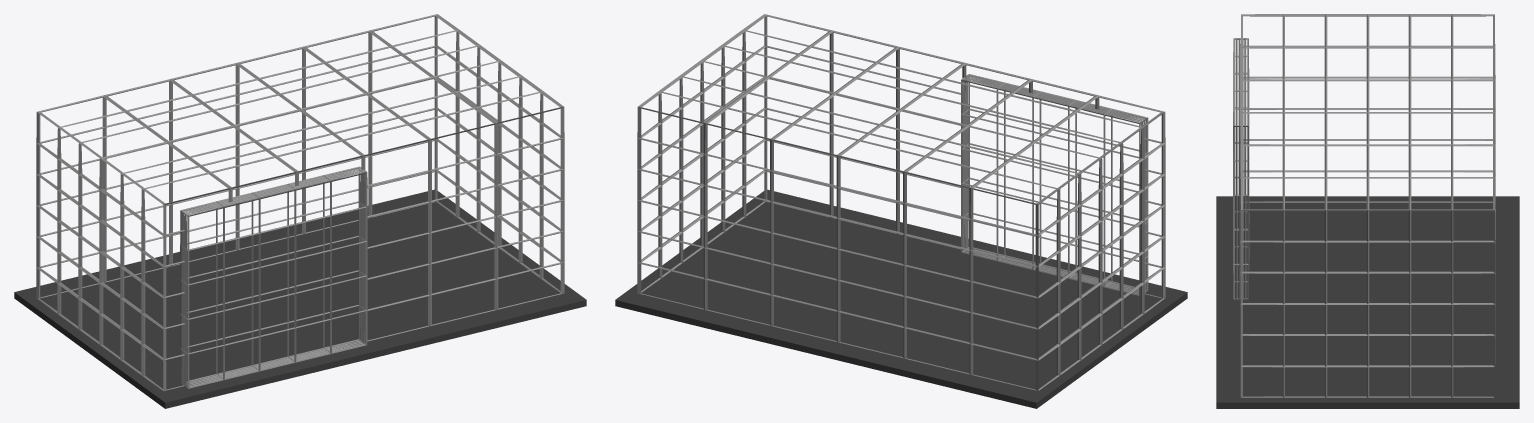
The model's file is DogCageV2.fbx.
3 renders of one model, left to right at view 1: azimuth 30°, elevation 25°; view 2: azimuth 150°, elevation 25°; view 3: azimuth 270°, elevation 25°, orthographic.
Visible parts, largest first — view 1: Plane, Cube, Cube.001; view 2: Plane, Cube, Cube.001; view 3: Plane, Cube, Cube.001.
Boxes of the visible parts, left/top/right/bottom form: Plane: left=14, top=189, right=586, bottom=408; Cube: left=36, top=14, right=564, bottom=391; Cube.001: left=180, top=166, right=367, bottom=388; Plane: left=615, top=189, right=1187, bottom=408; Cube: left=637, top=14, right=1165, bottom=391; Cube.001: left=961, top=74, right=1148, bottom=295; Plane: left=1216, top=196, right=1519, bottom=408; Cube: left=1240, top=14, right=1495, bottom=397; Cube.001: left=1233, top=38, right=1249, bottom=299.
Size of the model in its own units: 473 by 207 by 294.
